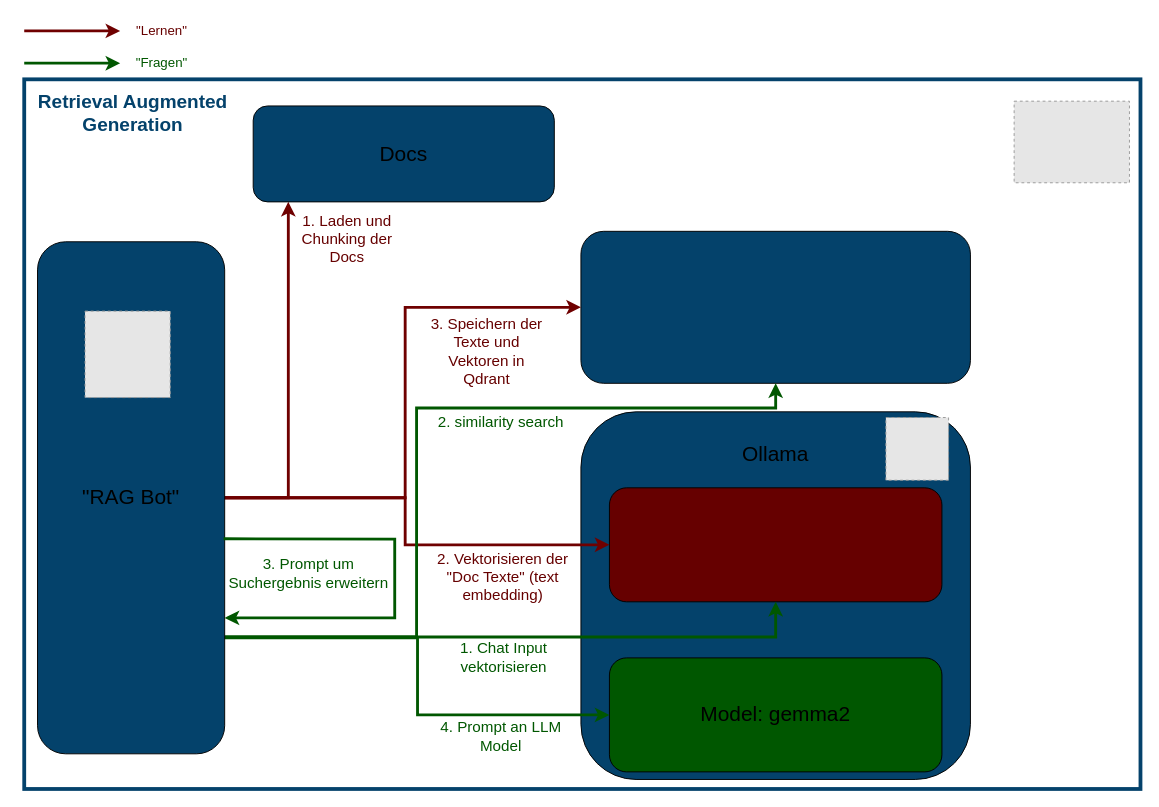
Some shapes in this 1159 by 807 pixel diagram are drawn without their labels. Grey dashed boxes stand in for pictures. Each missing label, with the centre of its shape:
Model: nomic-embed-text: the point at 775,544
Qdrant Vector Database: the point at 775,306
